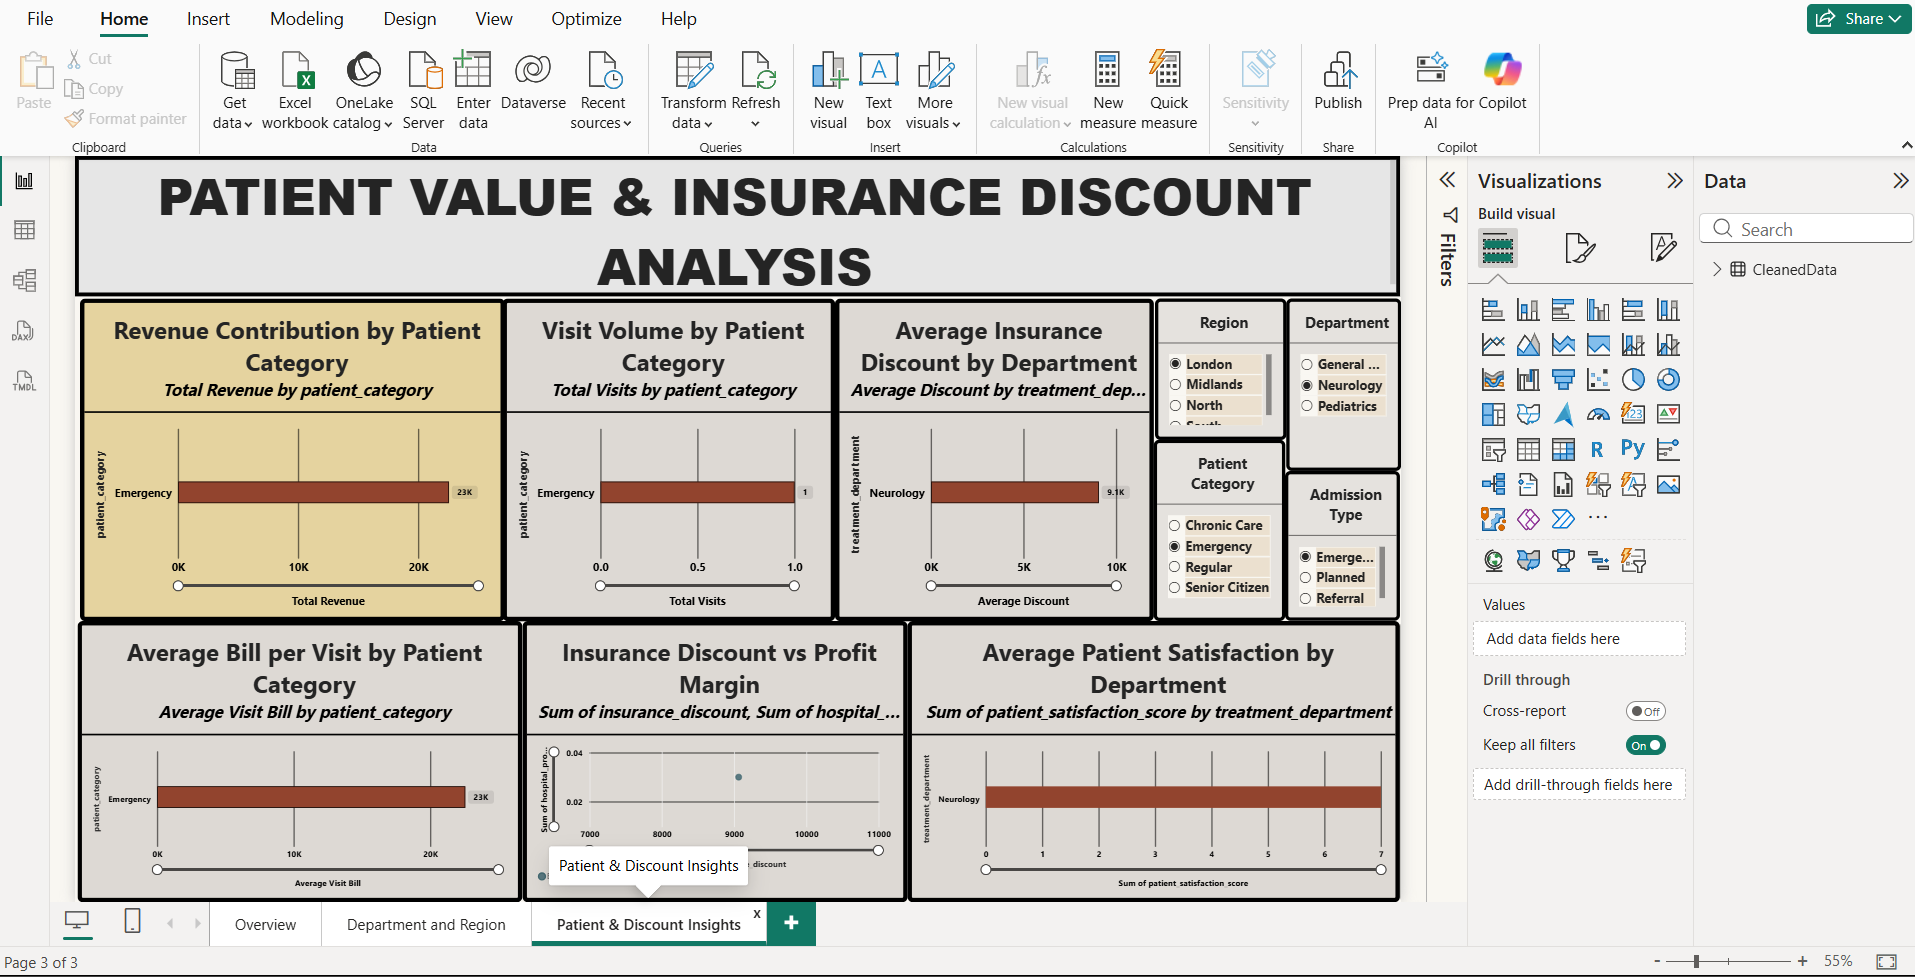

The dashboard page shown, as its layout file describes it:
{"tool":"powerbi","page":{"name":"Patient & Discount Insights","canvas":[1920,1080],"ordinal":2},"visuals":[{"type":"textbox","box":[0,0,1918.2,203],"z":0},{"type":"clusteredBarChart","title":"Revenue Contribution by Patient Category","fields":{"Category":["CleanedData.patient_category"],"Y":["CleanedData.Total Revenue"]},"box":[8,206.3,615.3,466.9],"z":1000},{"type":"clusteredBarChart","title":"Average Bill per Visit by Patient Category","fields":{"Category":["CleanedData.patient_category"],"Y":["CleanedData.Average Visit Bill"]},"box":[3.6,673.2,644.2,407.2],"z":2000},{"type":"clusteredBarChart","title":"Visit Volume by Patient Category","fields":{"Category":["CleanedData.patient_category"],"Y":["CleanedData.Total Visits"]},"box":[618.9,206.3,481.4,466.9],"z":3000},{"type":"scatterChart","title":"Insurance Discount vs Profit Margin","fields":{"Series":["CleanedData.patient_category"],"X":["Sum(CleanedData.insurance_discount)"],"Y":["Sum(CleanedData.hospital_profit_margin)"]},"box":[647.9,673.2,557.4,407.2],"z":4000},{"type":"clusteredBarChart","title":"Average Insurance Discount by Department","fields":{"Category":["CleanedData.treatment_department"],"Y":["CleanedData.Average Discount"]},"box":[1100.3,206.3,461.5,466.9],"z":5000},{"type":"clusteredBarChart","title":"Average Patient Satisfaction by Department","fields":{"Category":["CleanedData.treatment_department"],"Y":["Sum(CleanedData.patient_satisfaction_score)"]},"box":[1205.2,673.2,713,407.2],"z":6000},{"type":"listSlicer","title":"Region","fields":{"Values":["CleanedData.region"]},"box":[1563.5,206.3,190,204.5],"z":7000},{"type":"listSlicer","title":"Department","fields":{"Values":["CleanedData.treatment_department"]},"box":[1753.6,206.3,166.5,249.7],"z":8000},{"type":"listSlicer","title":"Patient Category","fields":{"Values":["CleanedData.patient_category"]},"box":[1561.7,410.8,190,262.4],"z":9000},{"type":"listSlicer","title":"Admission Type","fields":{"Values":["CleanedData.admission_type"]},"box":[1751.8,456,166.5,217.2],"z":10000}]}

Visuals, with their boxes on the page's 1920x1080 design canvas (x1, y1, x2, y2). These are canvas units, not pixel positions in the 1915x977 screenshot, which may show the page scaled, cropped or inside an application window:
textbox: Rect(0, 0, 1918, 203)
"Revenue Contribution by Patient Category" clusteredBarChart: Rect(8, 206, 623, 673)
"Average Bill per Visit by Patient Category" clusteredBarChart: Rect(4, 673, 648, 1080)
"Visit Volume by Patient Category" clusteredBarChart: Rect(619, 206, 1100, 673)
"Insurance Discount vs Profit Margin" scatterChart: Rect(648, 673, 1205, 1080)
"Average Insurance Discount by Department" clusteredBarChart: Rect(1100, 206, 1562, 673)
"Average Patient Satisfaction by Department" clusteredBarChart: Rect(1205, 673, 1918, 1080)
"Region" listSlicer: Rect(1564, 206, 1754, 411)
"Department" listSlicer: Rect(1754, 206, 1920, 456)
"Patient Category" listSlicer: Rect(1562, 411, 1752, 673)
"Admission Type" listSlicer: Rect(1752, 456, 1918, 673)
